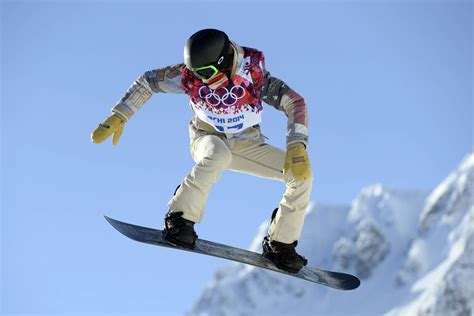snowboarder: (82, 18, 367, 295)
